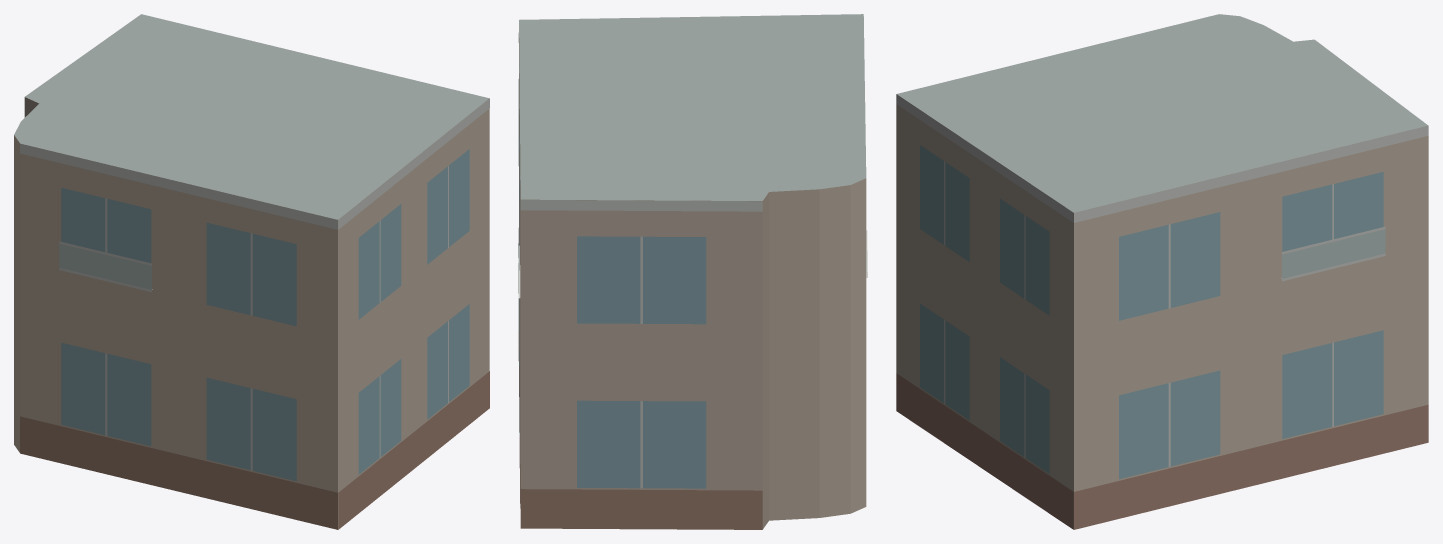
The model's file is survey-upis-32598544.glb.
3 views of the same model, side by side, from view 1: azimuth 30°, elevation 25°; view 2: azimuth 150°, elevation 25°; view 3: azimuth 270°, elevation 25° (orthographic). The views are drawn at different scales.
Visible parts, largest first — view 1: survey-upis-32598544.tmp; view 2: survey-upis-32598544.tmp; view 3: survey-upis-32598544.tmp.
Boxes of the visible parts, x1,y1,x2,y2 form: survey-upis-32598544.tmp: [14, 14, 489, 529]; survey-upis-32598544.tmp: [518, 14, 867, 529]; survey-upis-32598544.tmp: [896, 14, 1428, 529].
Size of the model in its own units: 10.24 by 7.6 by 11.57.
